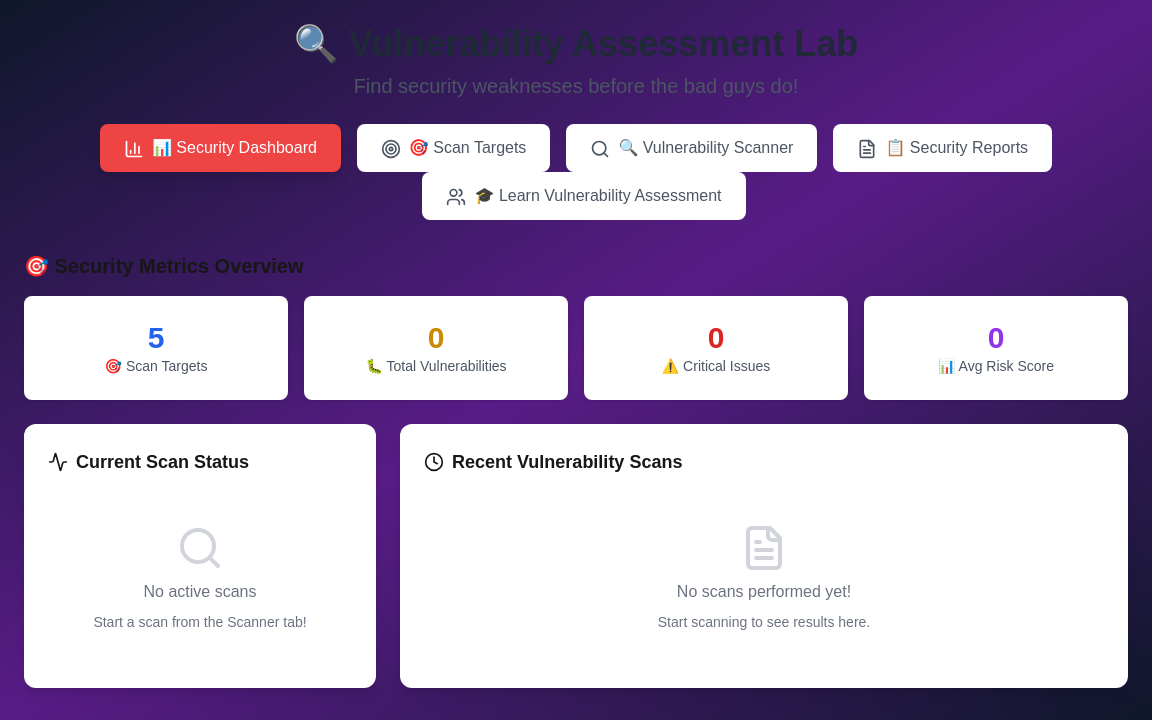
it: 🔍 VulnerabilityAssessmentLab - Educational Security Tool › 🎓 Educational Content Safety & Age-Appropriateness › uses age-appropriate language in vulnerability descriptions
# Navigate to learning section
Click the button "🎓 Learn Vulnerability Assessment" at (584, 196), box 422,172 -> 746,220
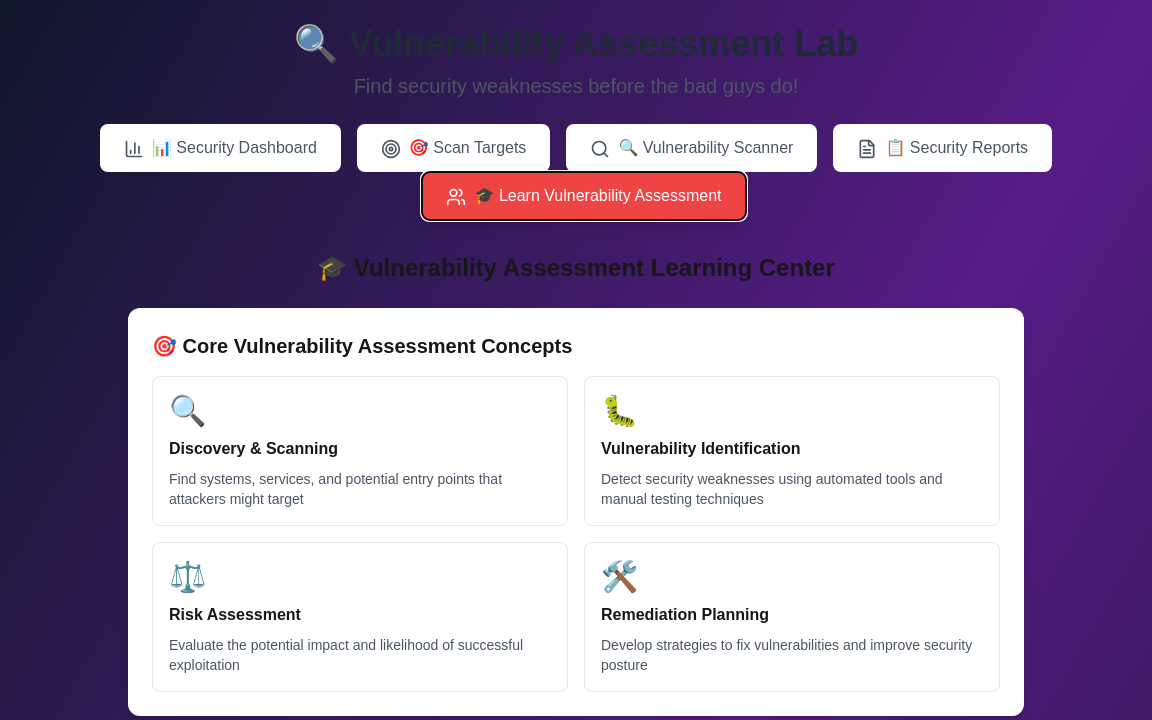
Result: the text "attack" is shown at 169,471 -> 502,507
Result: the text "exploit" is shown at 169,637 -> 523,673
